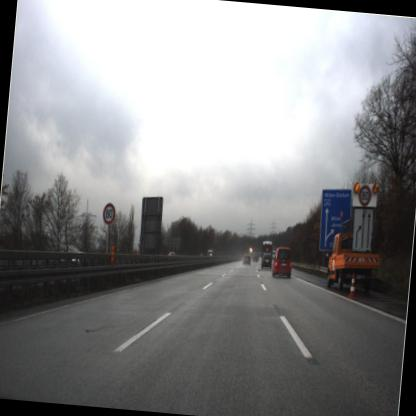prohibitory: (100, 198, 118, 226), (356, 182, 372, 208)
